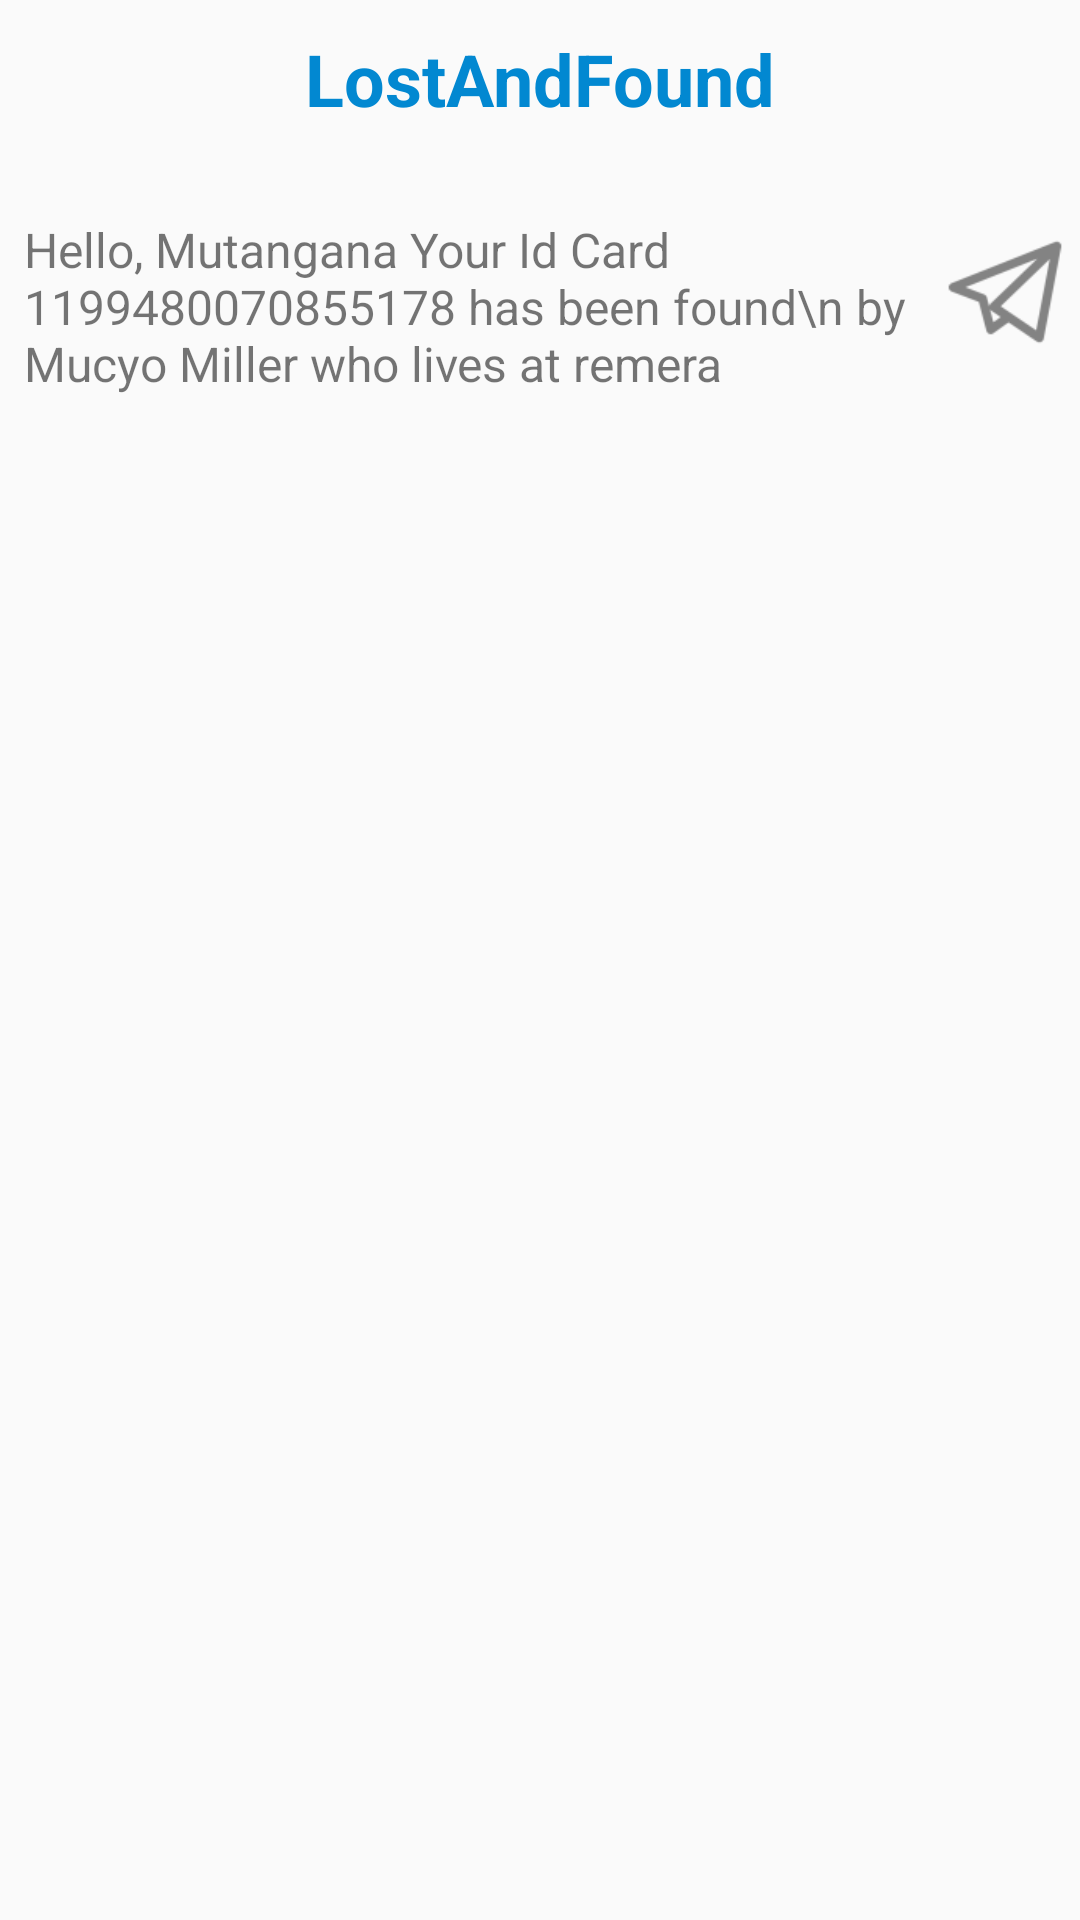

Icons on this 1080px x 1920px Android screen, each with its box as (x1, y1, x2, y2):
share: (948, 241, 1062, 343)
